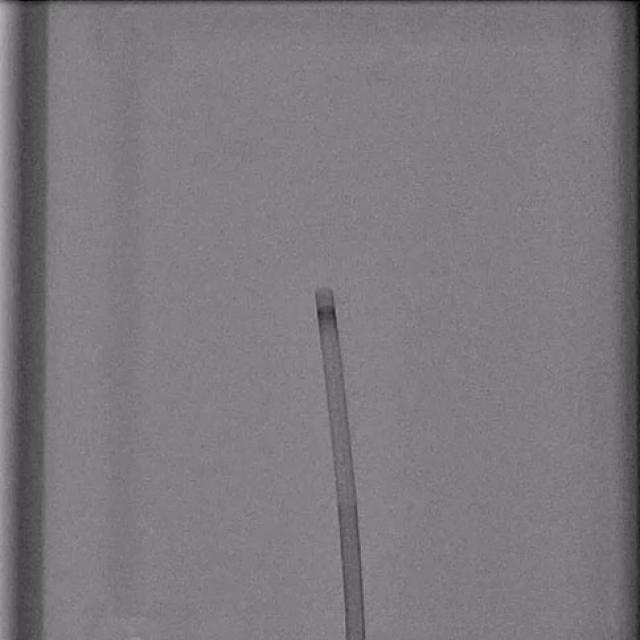bend: (336, 490, 357, 505)
entry: (346, 636, 365, 640)
marker: (316, 304, 338, 323)
tip: (314, 287, 332, 295)
